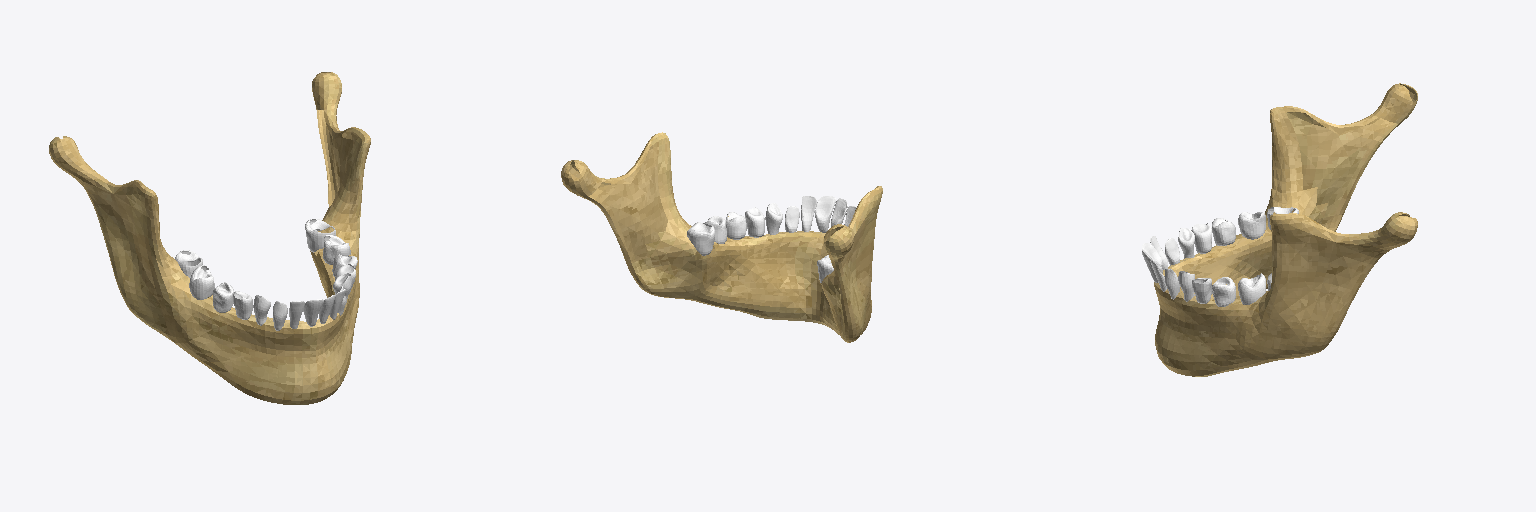
3 views of the same model, side by side, from view 1: azimuth 30°, elevation 25°; view 2: azimuth 150°, elevation 25°; view 3: azimuth 270°, elevation 25° (orthographic).
Parts seen in each view (by area): view 1: Mesh2 Object_0_1 skp60DD1 Component1 Model, Mesh28 Object_3_1 skp60DD1 Component1 Model; view 2: Mesh2 Object_0_1 skp60DD1 Component1 Model, Mesh28 Object_3_1 skp60DD1 Component1 Model, Mesh7 Object_2_1 skp60DD1 Component1 Model; view 3: Mesh2 Object_0_1 skp60DD1 Component1 Model.
Part boxes in pixels (x1,y1,x2,y2): Mesh2 Object_0_1 skp60DD1 Component1 Model: (49,72,370,404); Mesh28 Object_3_1 skp60DD1 Component1 Model: (305,219,335,252); Mesh2 Object_0_1 skp60DD1 Component1 Model: (561,132,882,342); Mesh28 Object_3_1 skp60DD1 Component1 Model: (687,222,714,255); Mesh7 Object_2_1 skp60DD1 Component1 Model: (815,196,835,232); Mesh2 Object_0_1 skp60DD1 Component1 Model: (1154,83,1417,376).
Bounding box in the file's own units: 4.5 × 3.18 × 3.74.
Materials: 2 (1 with a texture image).